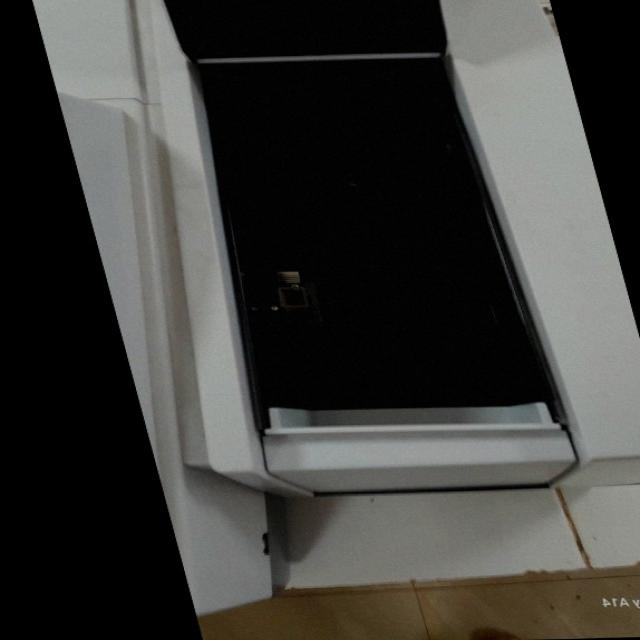Spectrophotometer: (56, 27, 582, 490)
